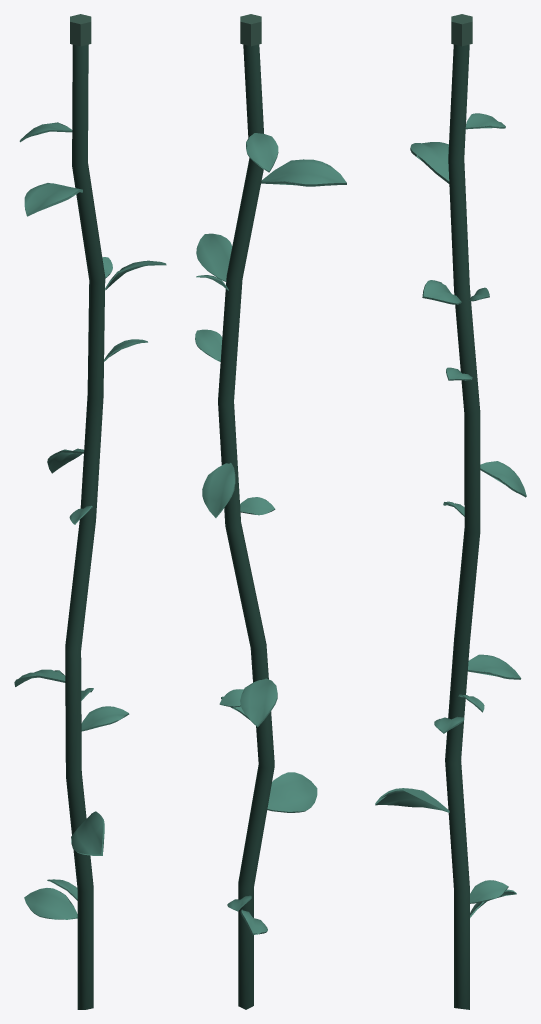
The model's file is CipóB.fbx.
3 views of the same model, side by side, from view 1: azimuth 30°, elevation 25°; view 2: azimuth 150°, elevation 25°; view 3: azimuth 270°, elevation 25° (orthographic).
Visible parts, largest first — view 1: CipoFolhas_pCylinder1; view 2: CipoFolhas_pCylinder1; view 3: CipoFolhas_pCylinder1.
Boxes of the visible parts, left/top/right/bottom form: CipoFolhas_pCylinder1: left=14, top=14, right=166, bottom=1009; CipoFolhas_pCylinder1: left=195, top=14, right=346, bottom=1009; CipoFolhas_pCylinder1: left=375, top=14, right=526, bottom=1009.
Size of the model in its own units: 2.17 by 14.6 by 2.03.
